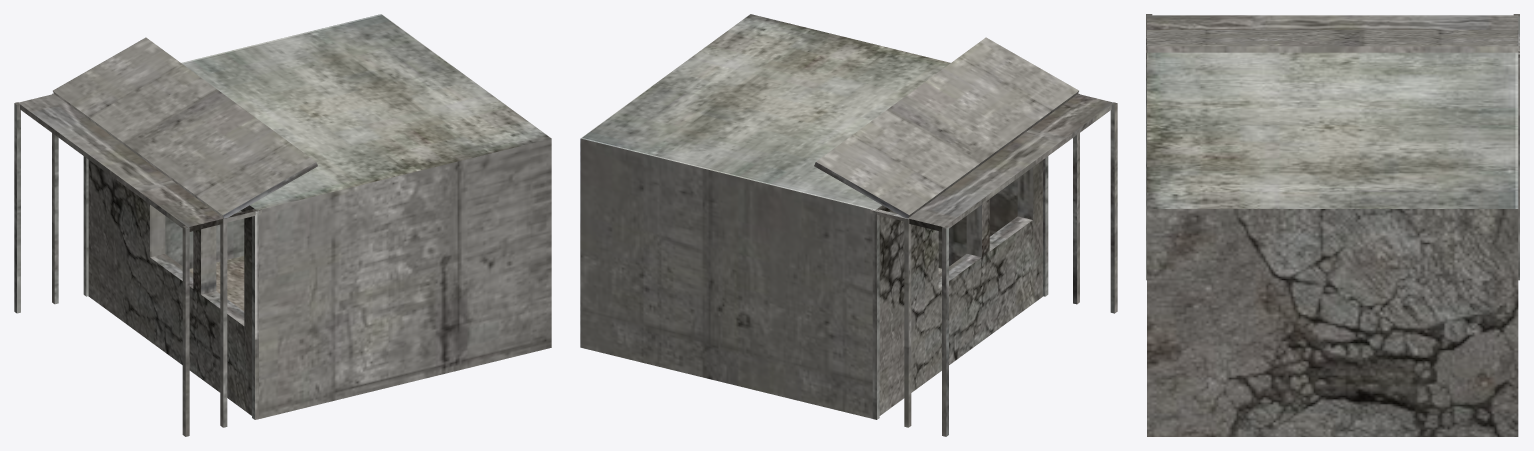
The model's file is block.glb.
The picture shows the model from 3 angles, left to right: view 1: azimuth 30°, elevation 25°; view 2: azimuth 150°, elevation 25°; view 3: azimuth 270°, elevation 25°; orthographic projection. The views are drawn at different scales.
Size of the model in its own units: 3.18 by 2.02 by 2.58.
Materials: 1 (1 with a texture image).
